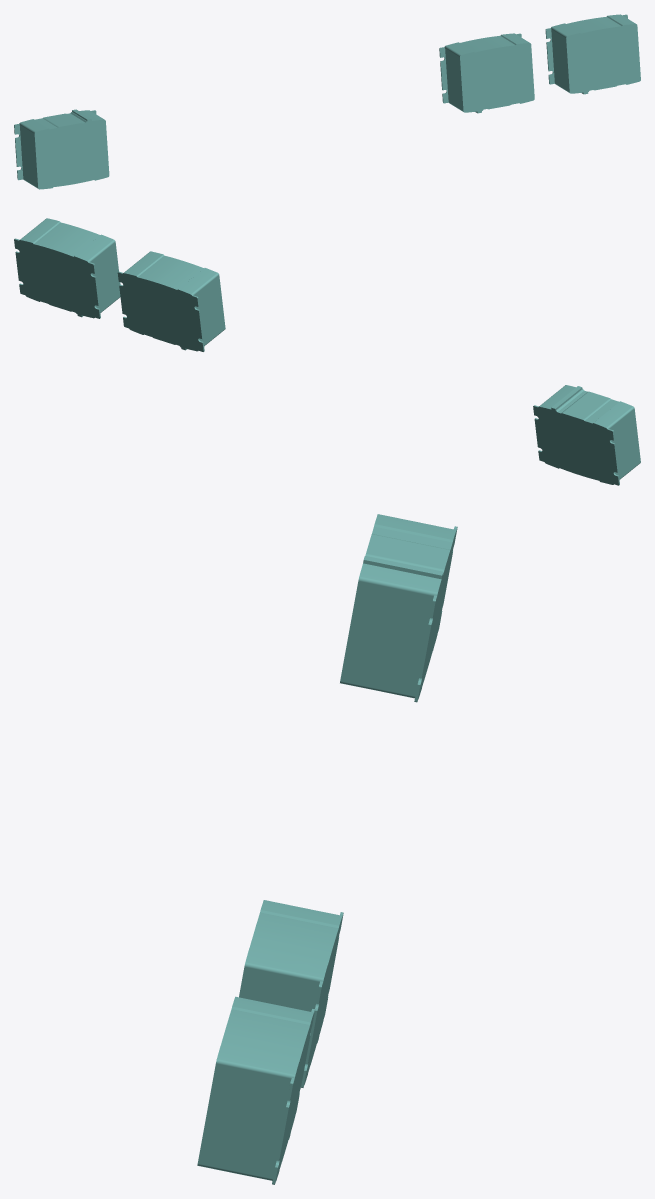
File: POWER ARCHITECTURE__ELEC BOARD COMPONENTS__Orion 360W isolated DC-DC converter.glb
3 views of the same model, one above another, from view 1: azimuth 30°, elevation 25°; view 2: azimuth 150°, elevation 25°; view 3: azimuth 270°, elevation 25° (orthographic). The views are drawn at different scales.
Parts seen in each view (by area): view 1: Orion 360W isolated DC-DC converter; view 2: Orion 360W isolated DC-DC converter; view 3: Orion 360W isolated DC-DC converter.
Boxes of the visible parts, left/top/right/bottom form: Orion 360W isolated DC-DC converter: left=14, top=14, right=640, bottom=189; Orion 360W isolated DC-DC converter: left=14, top=218, right=640, bottom=485; Orion 360W isolated DC-DC converter: left=197, top=514, right=457, bottom=1184.
Bounding box in the file's own units: 1.39 × 0.1493 × 0.2732.
